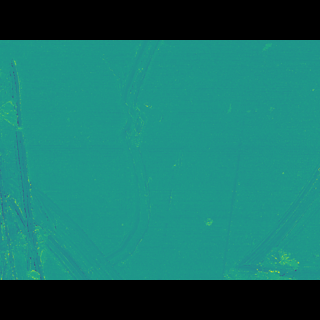Loch: (0, 82, 130, 251), (98, 69, 165, 243), (227, 160, 320, 250), (218, 116, 249, 248)
